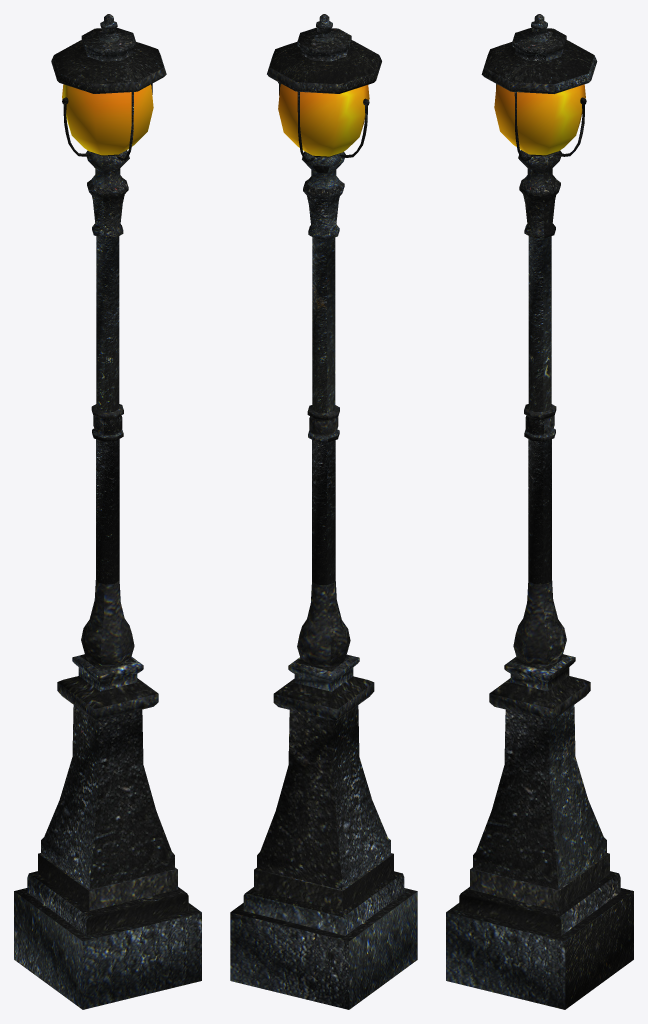
Rendered from textured lamp 6.fbx.
3 renders of one model, left to right at view 1: azimuth 30°, elevation 25°; view 2: azimuth 150°, elevation 25°; view 3: azimuth 330°, elevation 25°, orthographic.
Parts seen in each view (by area): view 1: Plane.001, Plane.010; view 2: Plane.001, Plane.010; view 3: Plane.001, Plane.010.
Boxes of the visible parts, left/top/right/bottom form: Plane.001: left=14, top=14, right=201, bottom=1009; Plane.010: left=62, top=84, right=153, bottom=155; Plane.001: left=230, top=14, right=417, bottom=1009; Plane.010: left=278, top=84, right=369, bottom=156; Plane.001: left=446, top=14, right=633, bottom=1009; Plane.010: left=494, top=84, right=585, bottom=155.
Bounding box in the file's own units: 58.62 × 450 × 58.62.
2 materials, 2 textured.
